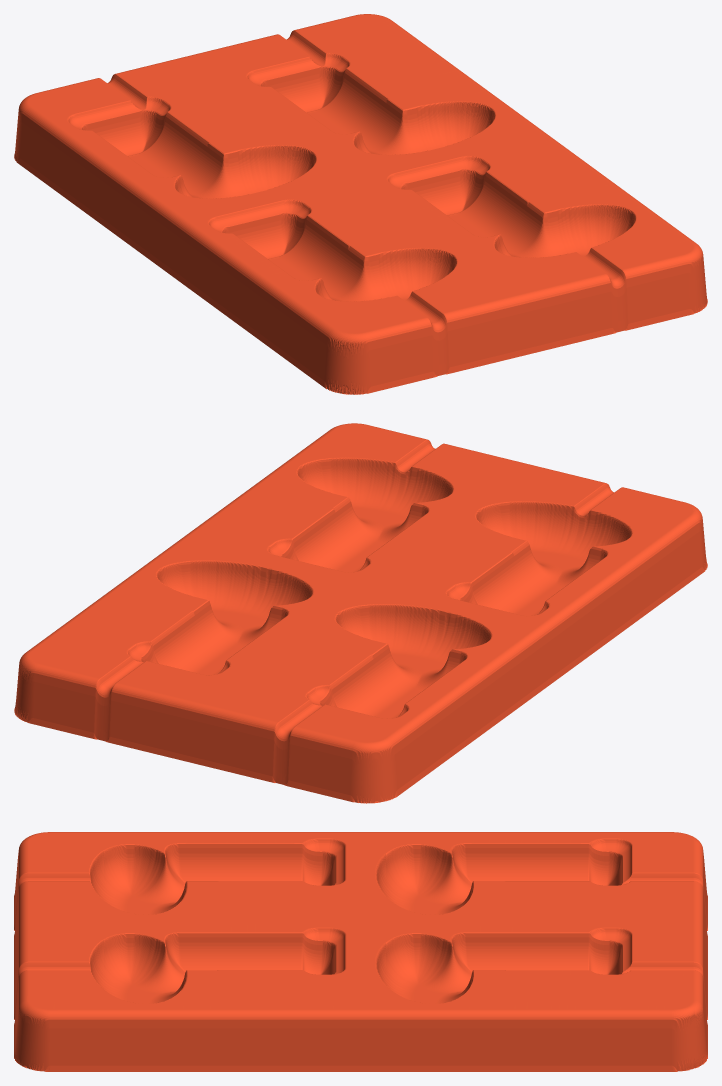
Rendered from mold.glb.
The picture shows the model from 3 angles, top to bottom: view 1: azimuth 30°, elevation 25°; view 2: azimuth 150°, elevation 25°; view 3: azimuth 270°, elevation 25°; orthographic projection. The views are drawn at different scales.
Parts seen in each view (by area): view 1: geometry_0; view 2: geometry_0; view 3: geometry_0.
Boxes of the visible parts, x1,y1,x2,y2 form: geometry_0: (14,14,707,394); geometry_0: (14,423,707,803); geometry_0: (14,832,707,1071).
Bounding box in the file's own units: 0.1117 × 0.0155 × 0.1735.
